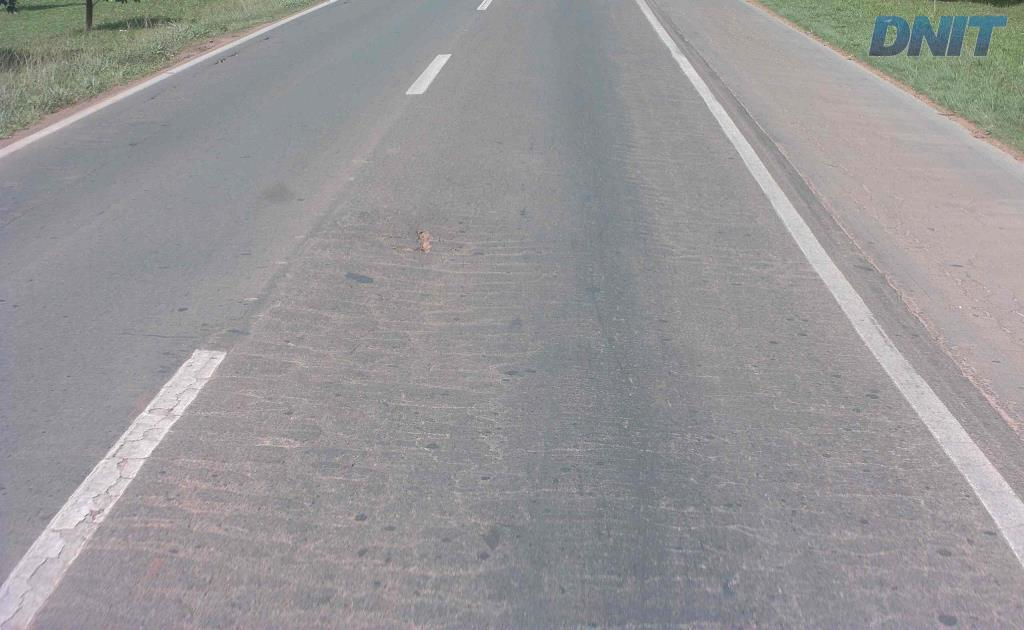pothole: (392, 221, 436, 260)
